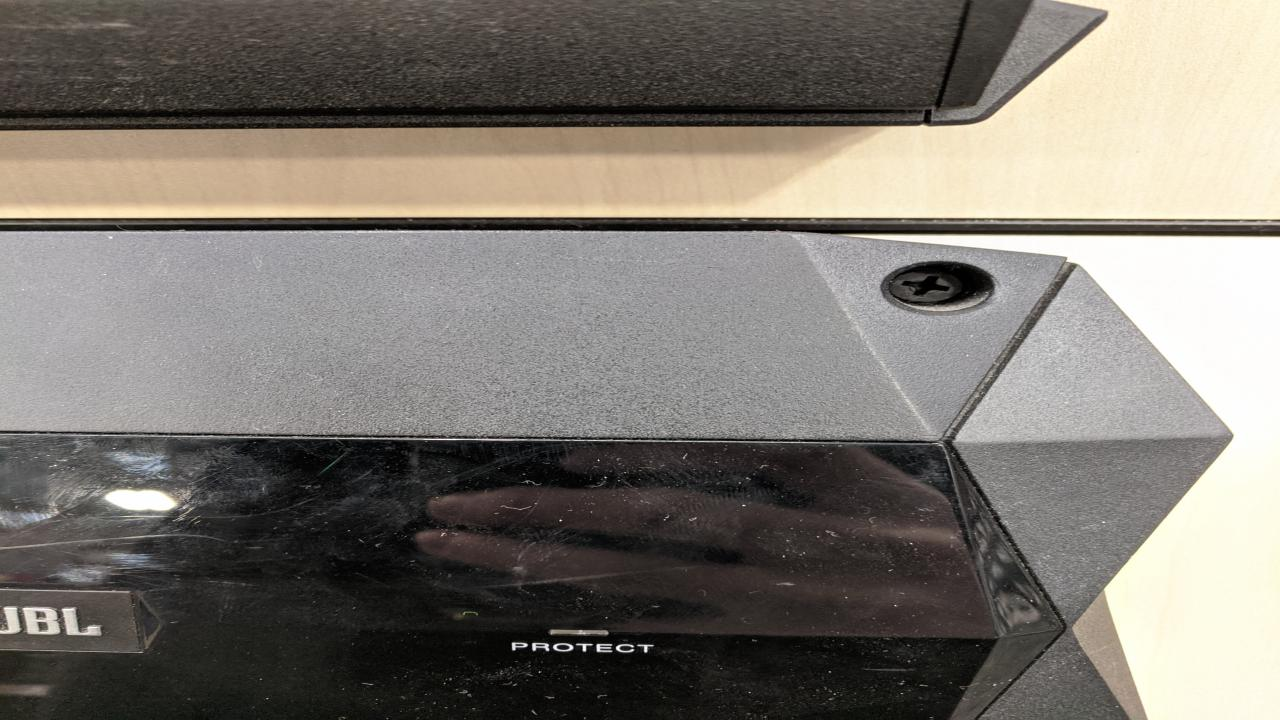CRS: (882, 264, 972, 309)
